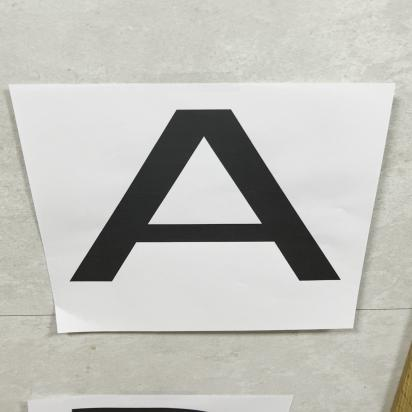seat: (62, 108, 362, 295)
